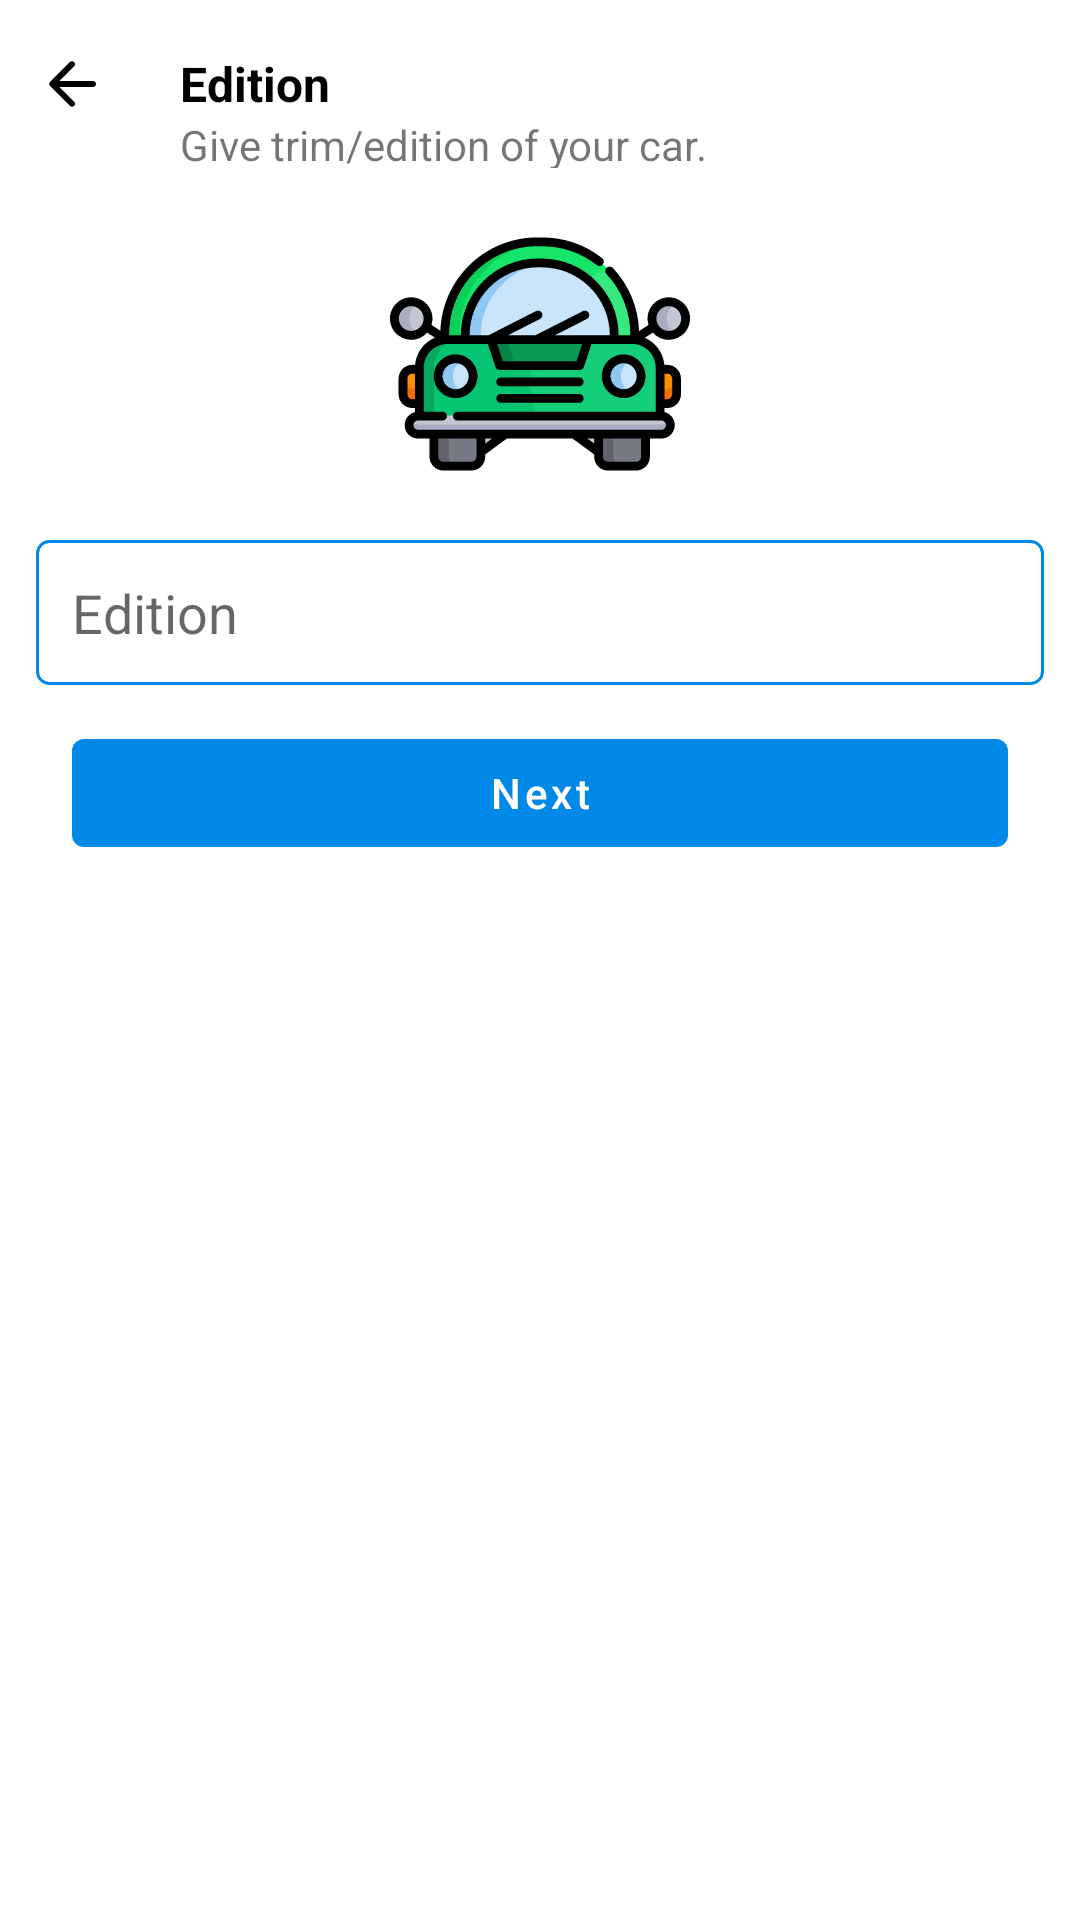

Screen size 1080 × 1920. Icon name, then its box in pixels as box(x1, y1, x2, y2):
arrow back: box(49, 61, 96, 107)
